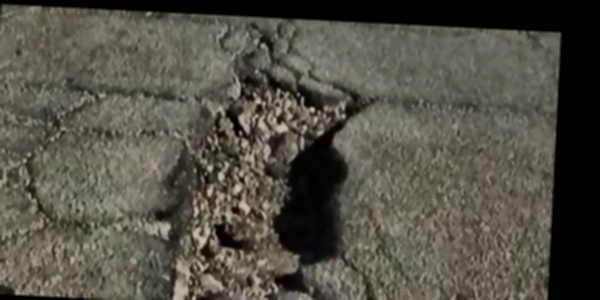pothole: (164, 59, 382, 300)
